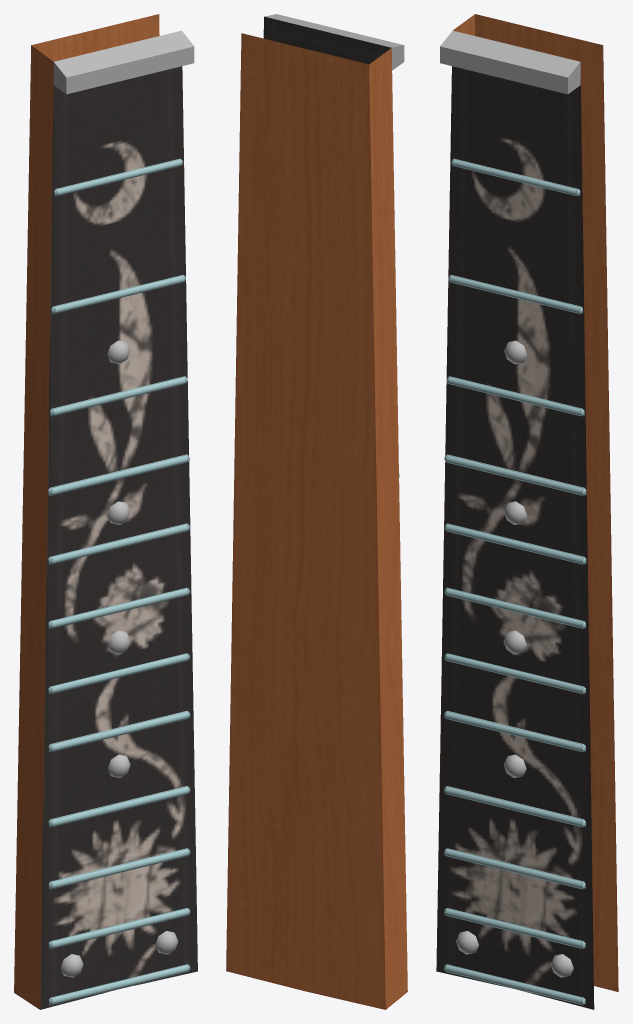
File: Neck.fbx
3 views of the same model, side by side, from view 1: azimuth 30°, elevation 25°; view 2: azimuth 150°, elevation 25°; view 3: azimuth 330°, elevation 25° (orthographic).
Parts seen in each view (by area): view 1: polySurface156; view 2: polySurface156; view 3: polySurface156.
Part boxes in pixels (x1,y1,x2,y2): polySurface156: [14, 14, 197, 1009]; polySurface156: [226, 14, 407, 1009]; polySurface156: [436, 14, 618, 1009].
Bounding box in the file's own units: 7.39 × 41.69 × 2.92.
